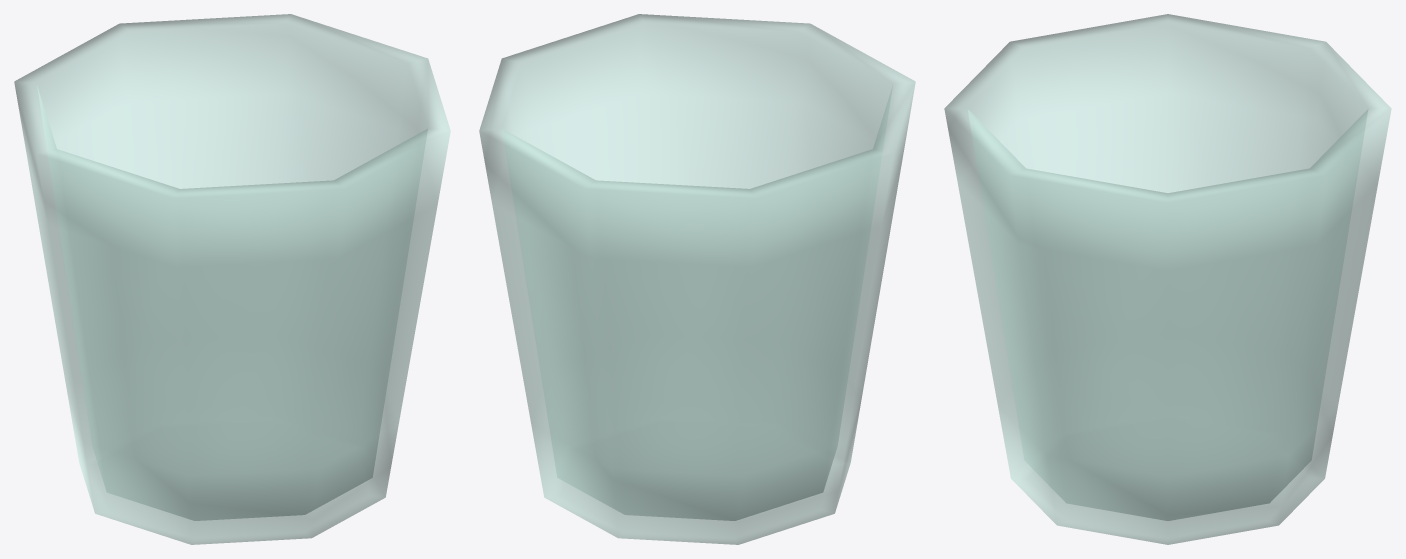
The model's file is vaso.FBX.
3 renders of one model, left to right at view 1: azimuth 30°, elevation 25°; view 2: azimuth 150°, elevation 25°; view 3: azimuth 270°, elevation 25°, orthographic.
Parts seen in each view (by area): view 1: Cylinder001; view 2: Cylinder001; view 3: Cylinder001.
Part boxes in pixels (x1,y1,x2,y2): Cylinder001: (14, 14, 450, 544); Cylinder001: (479, 14, 915, 544); Cylinder001: (944, 14, 1391, 544).
Size of the model in its own units: 24.51 by 22.37 by 24.51.
